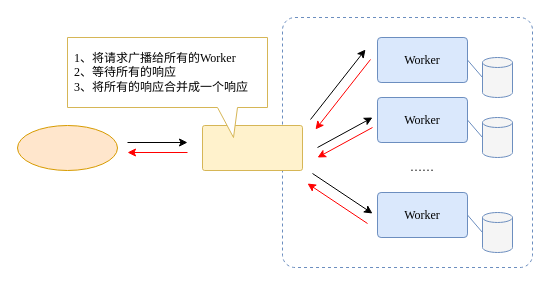
Image size: 550x285. Some labels were removed from this diagram. Here are the shapes that lost their labels. From the top down, the centre of each, then its label:
At [67,147]: "Client".
At [252,147]: "Dispatcher".
